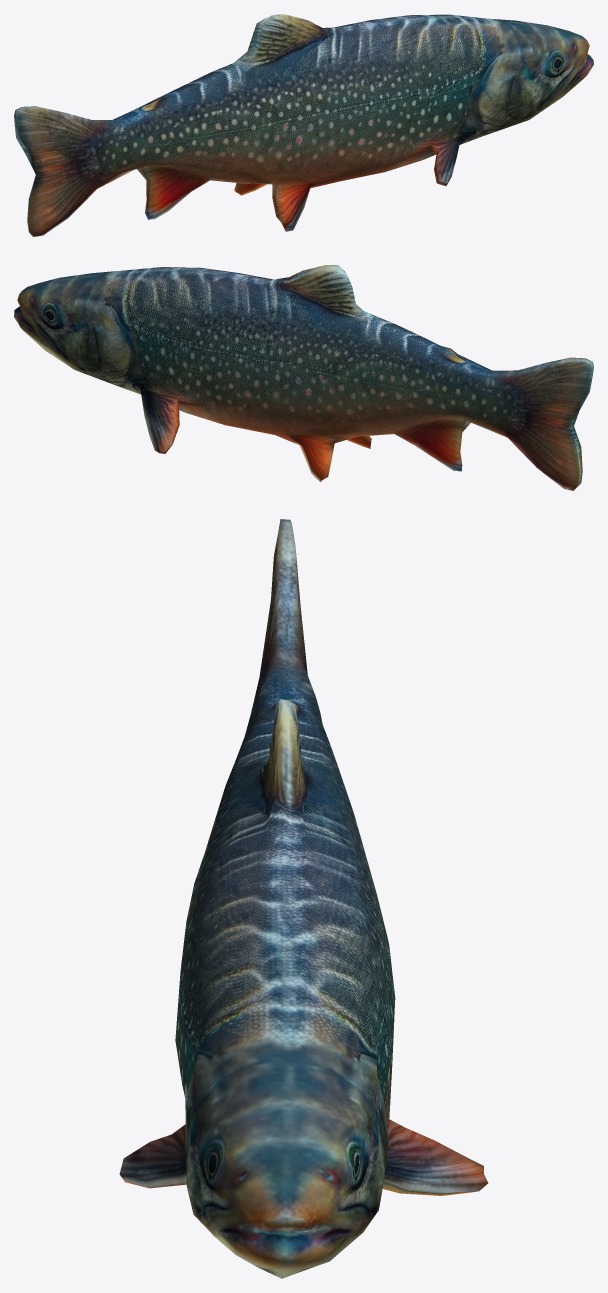
Rendered from char.glb.
The picture shows the model from 3 angles, top to bottom: view 1: azimuth 30°, elevation 25°; view 2: azimuth 150°, elevation 25°; view 3: azimuth 270°, elevation 25°; orthographic projection. The views are drawn at different scales.
Parts seen in each view (by area): view 1: tripo_node_e85b7c28; view 2: tripo_node_e85b7c28; view 3: tripo_node_e85b7c28.
Boxes of the visible parts, bbox=[...] form: tripo_node_e85b7c28: bbox=[14, 14, 593, 236]; tripo_node_e85b7c28: bbox=[14, 265, 593, 490]; tripo_node_e85b7c28: bbox=[119, 519, 488, 1278].
Bounding box in the file's own units: 97.14 × 31.84 × 26.9.
1 material, 1 textured.
